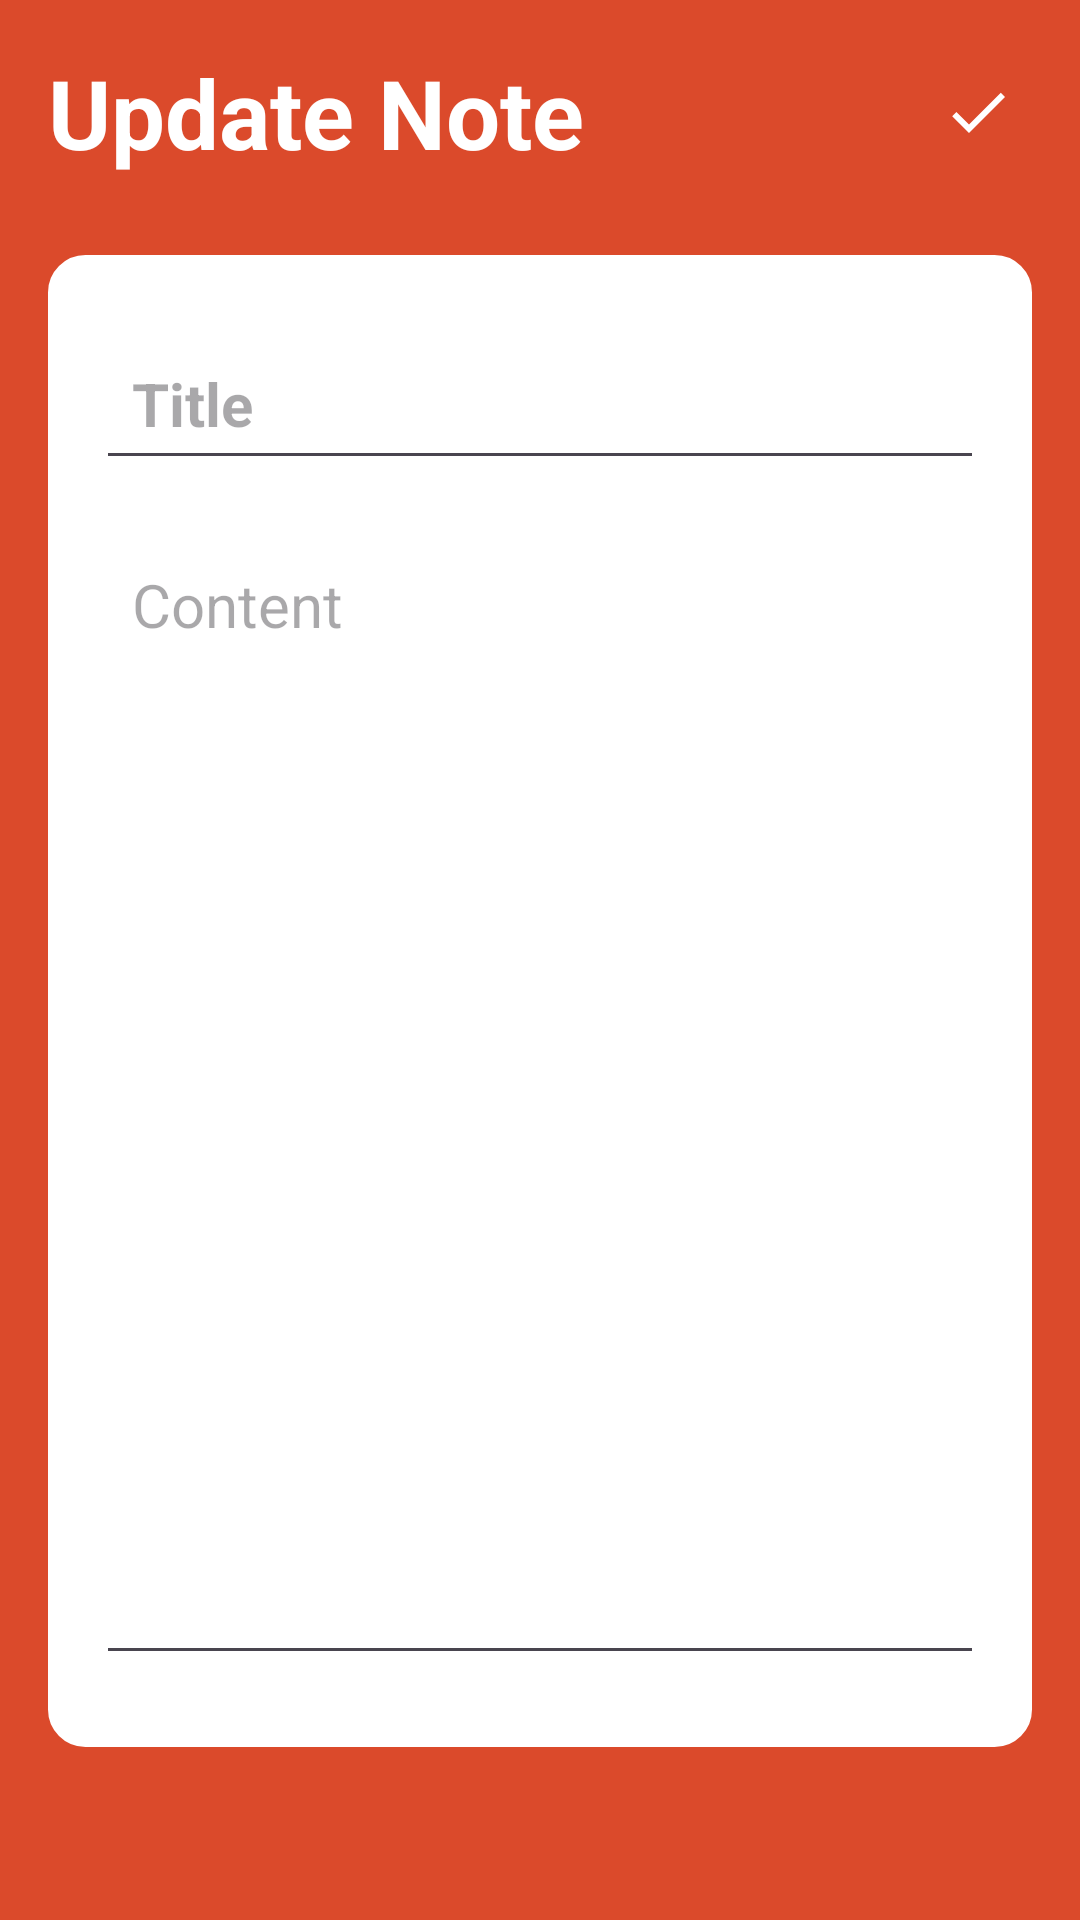

Icons on this 1080 × 1920 Android screen, each with its box as rect(x1, y1, x2, y2):
done: rect(952, 93, 1005, 133)
